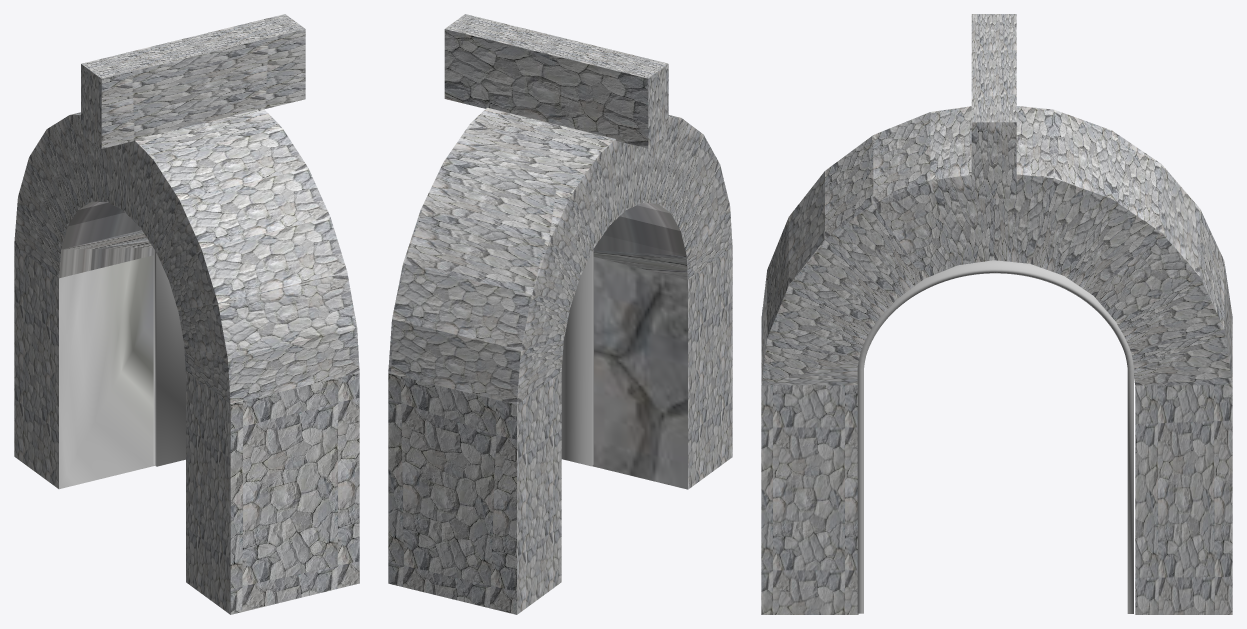
Rendered from Arco2.obj.
3 renders of one model, left to right at view 1: azimuth 30°, elevation 25°; view 2: azimuth 150°, elevation 25°; view 3: azimuth 270°, elevation 25°, orthographic. The views are drawn at different scales.
Parts seen in each view (by area): view 1: Jamb_Material.001, Jamb_Material, Jamb_Material.005, Jamb.001_; view 2: Jamb_Material.001, Jamb_Material, Jamb_Material.005, Jamb.001_; view 3: Jamb_Material.001, Jamb_Material, Jamb_Material.005, Jamb.001_.
Boxes of the visible parts, x1,y1,x2,y2 form: Jamb_Material.001: (14, 108, 359, 489); Jamb_Material: (186, 371, 359, 614); Jamb_Material.005: (81, 14, 305, 148); Jamb.001_: (153, 248, 185, 466); Jamb_Material.001: (388, 107, 732, 614); Jamb_Material: (592, 247, 732, 489); Jamb_Material.005: (444, 14, 668, 148); Jamb.001_: (561, 250, 593, 466); Jamb_Material.001: (761, 106, 1232, 614); Jamb_Material: (761, 317, 858, 614); Jamb_Material.005: (971, 14, 1016, 198); Jamb.001_: (857, 260, 1133, 613).
Bounding box in the file's own units: 2.86 × 6.34 × 5.25.
